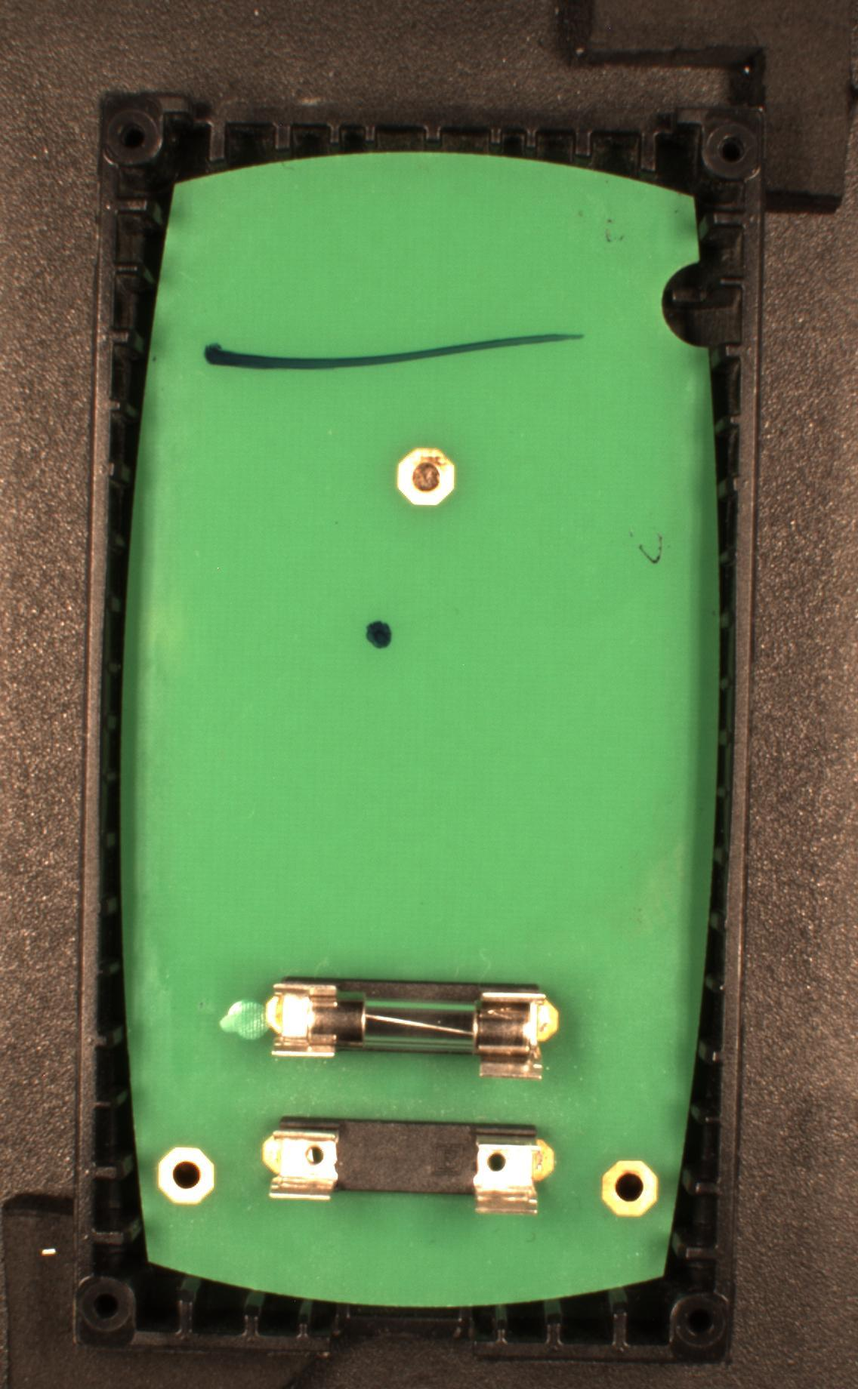Linijsko Ostecene: (202, 331, 587, 371)
Nepostojanje osiguraca: (259, 1114, 556, 1219)
Tockasto Ostecenje: (365, 619, 396, 651)
